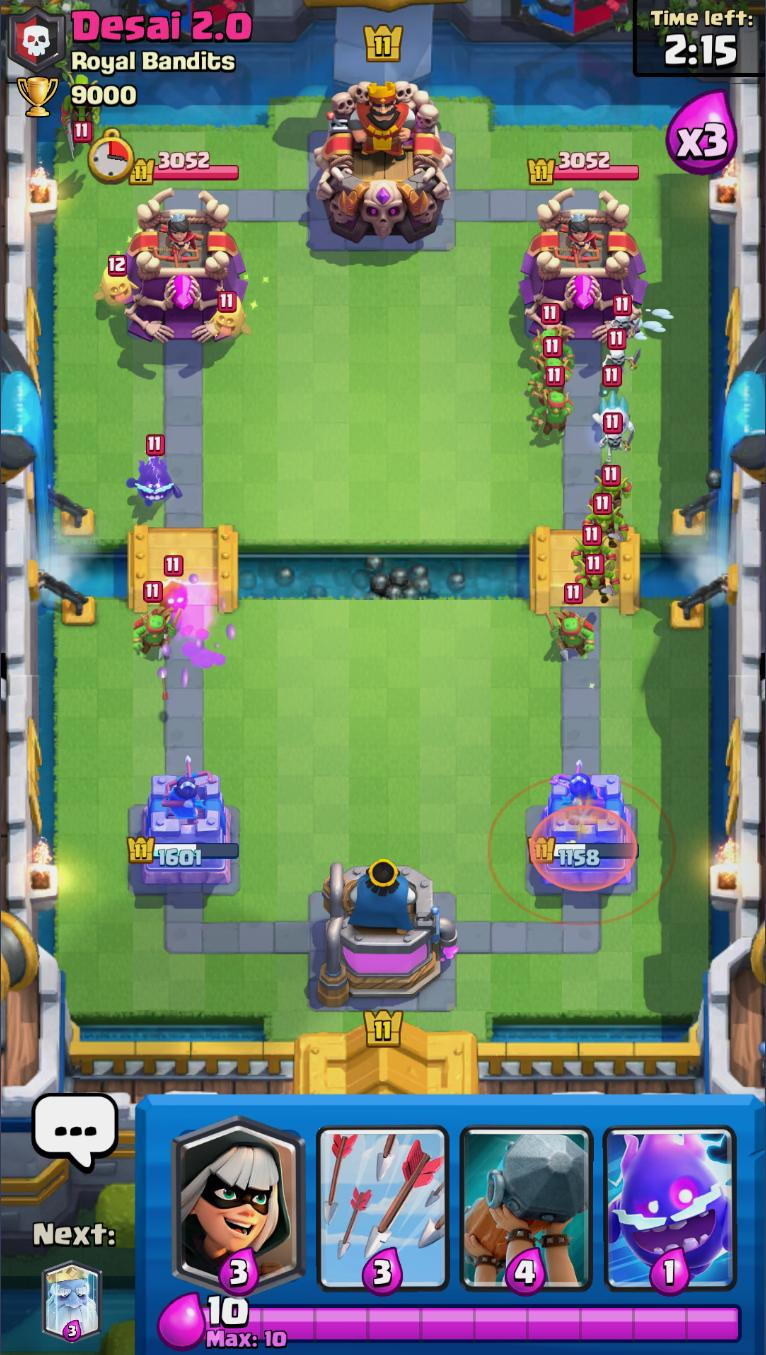ArrowDeck: (310, 1097, 457, 1293)
BanditDeck: (167, 1098, 310, 1290)
BattleRamDeck: (455, 1098, 596, 1297)
ElectroSpirit: (123, 433, 183, 508)
ElectroSpiritDeck: (597, 1098, 744, 1293)
Elixir: (203, 1285, 252, 1328)
EnemyTower: (522, 190, 650, 348), (120, 197, 238, 347)
FireSpirit: (155, 552, 190, 613)
Goblin: (570, 555, 620, 605), (67, 72, 102, 143), (572, 523, 618, 567), (585, 495, 627, 542), (592, 462, 633, 510)
HealSpirit: (97, 252, 142, 310), (207, 287, 248, 347)
IceSpirit: (588, 367, 630, 435)
KingTower: (313, 73, 450, 257)
MyKingTower: (315, 860, 462, 1010)
MyPrincessTower: (122, 773, 240, 892), (530, 767, 642, 887)
MyPrincessTowerHP: (128, 837, 238, 867), (532, 838, 642, 867)
PrincessTower: (552, 208, 605, 265), (153, 212, 205, 265)
RoyaleGhostNext: (42, 1257, 103, 1343)
Skeleton: (602, 293, 642, 347), (597, 413, 637, 460), (602, 332, 638, 377)
SpearGoblin: (547, 582, 593, 662), (532, 363, 577, 443), (130, 582, 173, 660), (528, 335, 575, 390), (528, 302, 572, 357)
TowerPrincessHP: (527, 150, 642, 188), (128, 149, 239, 185)
